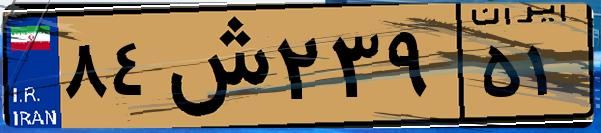1: (525, 38, 570, 115)
2: (270, 28, 330, 110)
3: (330, 28, 385, 110)
4: (110, 28, 158, 98)
5: (475, 38, 525, 113)
8: (57, 26, 110, 100)
9: (385, 28, 445, 110)
ش: (158, 12, 270, 120)
